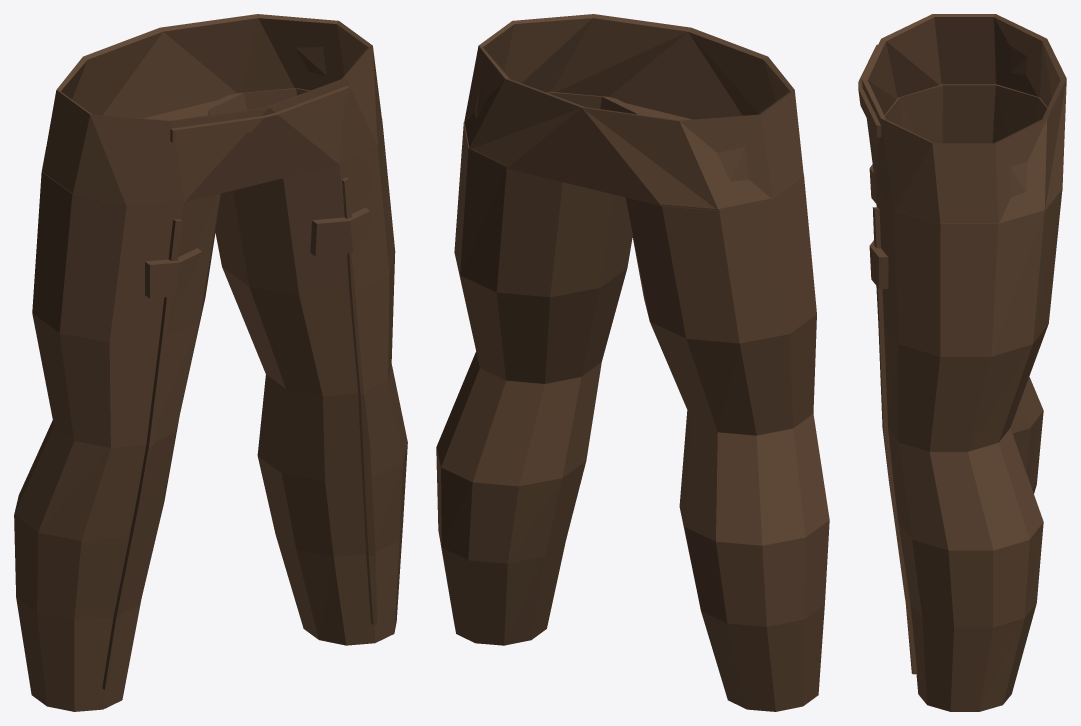
Rendered from leather_legs-male-thickHide.glb.
3 views of the same model, side by side, from view 1: azimuth 30°, elevation 25°; view 2: azimuth 150°, elevation 25°; view 3: azimuth 270°, elevation 25° (orthographic). The views are drawn at different scales.
Parts seen in each view (by area): view 1: leather trouser leg -1, leather trouser leg 1, leather trouser pelvis yoke, Trouser reinforced front seam 1, Trouser reinforced front seam -1, Trouser waist facing, Heavy hide binding leather trouser leg 1, Heavy hide binding leather trouser leg -1; view 2: leather trouser leg -1, leather trouser leg 1, leather trouser pelvis yoke; view 3: leather trouser leg 1, leather trouser pelvis yoke, leather trouser leg -1, Trouser reinforced front seam 1, Heavy hide binding leather trouser leg 1, Trouser waist facing.
Part boxes in pixels (x1,y1,x2,y2): leather trouser leg -1: (14,147,221,711); leather trouser leg 1: (200,88,407,645); leather trouser pelvis yoke: (42,14,381,204); Trouser reinforced front seam 1: (342,177,379,625); Trouser reinforced front seam -1: (102,219,182,690); Trouser waist facing: (170,85,349,142); Heavy hide binding leather trouser leg 1: (310,207,370,256); Heavy hide binding leather trouser leg -1: (145,248,202,298); leather trouser leg -1: (625,174,829,711); leather trouser leg 1: (436,91,644,645); leather trouser pelvis yoke: (464,14,803,210); leather trouser leg 1: (876,188,1062,711); leather trouser pelvis yoke: (861,14,1066,223); leather trouser leg -1: (884,84,1047,493); Trouser reinforced front seam 1: (872,207,917,674); Heavy hide binding leather trouser leg 1: (869,240,888,288); Trouser waist facing: (858,44,881,137).
Size of the model in its own units: 2.34 by 3.57 by 1.22.
